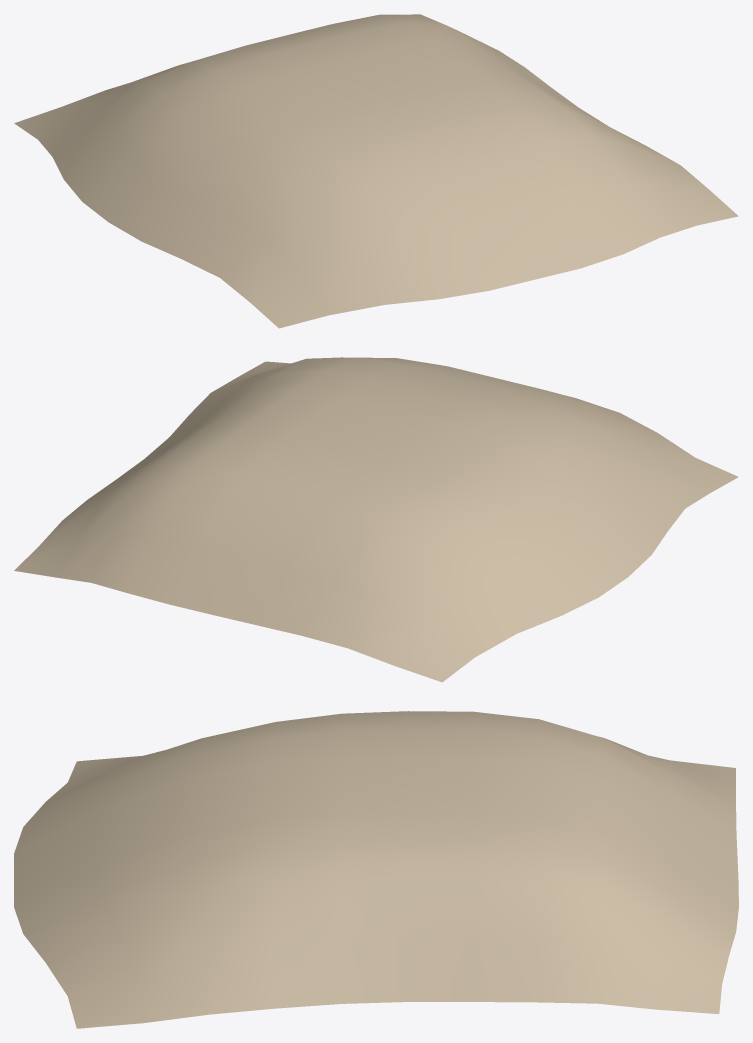
Rendered from SM_Brown_Spills.fbx.
3 views of the same model, one above another, from view 1: azimuth 30°, elevation 25°; view 2: azimuth 150°, elevation 25°; view 3: azimuth 270°, elevation 25° (orthographic). The views are drawn at different scales.
Parts seen in each view (by area): view 1: SM_Brown_Spills; view 2: SM_Brown_Spills; view 3: SM_Brown_Spills.
Part boxes in pixels (<box>): SM_Brown_Spills: <box>14,14,738,328</box>; SM_Brown_Spills: <box>14,357,738,682</box>; SM_Brown_Spills: <box>14,711,738,1028</box>.
Size of the model in its own units: 42.62 by 7.47 by 45.69.
